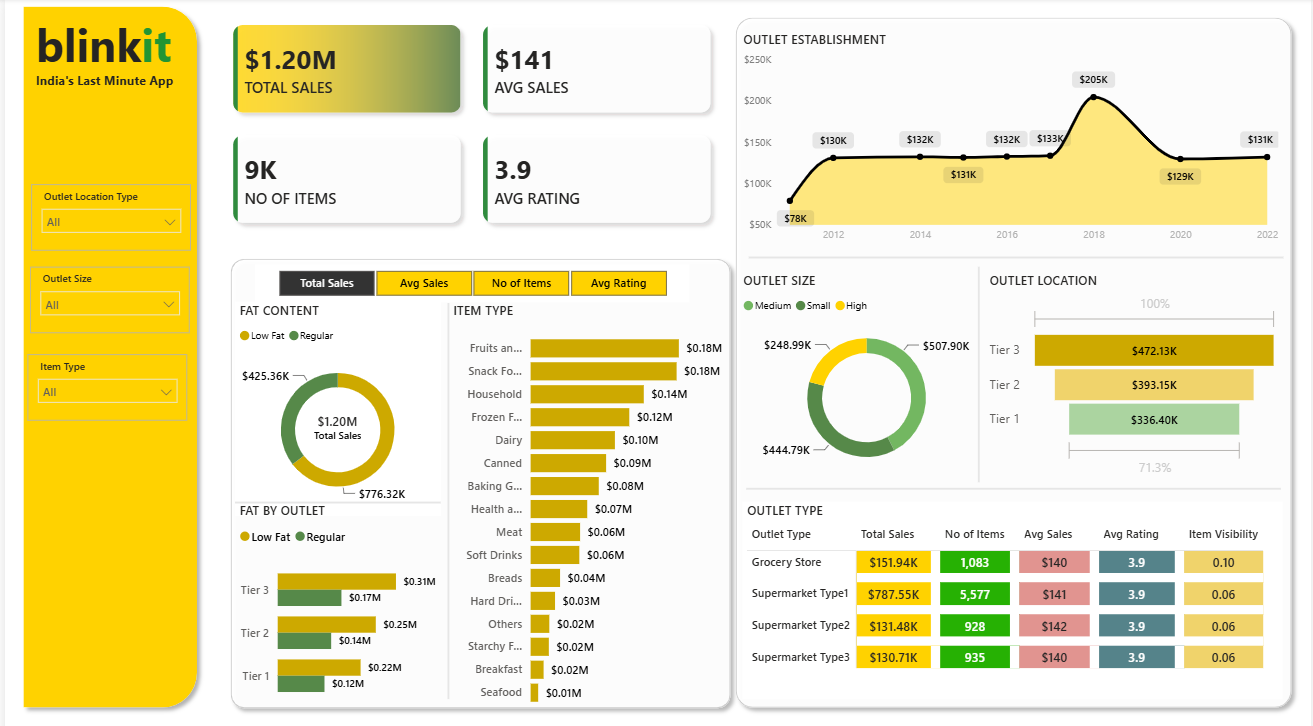

What the dashboard file says about the page in this screenshot:
{"tool":"powerbi","page":{"name":"Page 1","canvas":[1400,800],"ordinal":0},"visuals":[{"type":"shape","box":[10.5,0,204.1,769.9],"z":0},{"type":"textbox","box":[28.5,12,163.6,75],"z":1000},{"type":"textbox","box":[28.5,73.5,171.1,30],"z":2000},{"type":"cardVisual","fields":{"Data":["BlinkIT Grocery Data.Total Sales","BlinkIT Grocery Data.Avg Sales","BlinkIT Grocery Data.No of Items","BlinkIT Grocery Data.Avg Rating"]},"box":[216.1,0,570.3,270.2],"z":3000},{"type":"shape","box":[232.6,270.2,553.8,499.8],"z":4000},{"type":"donutChart","title":"FAT CONTENT","fields":{"Y":["BlinkIT Grocery Data.Total Sales"],"Category":["BlinkIT Grocery Data.Item Fat Content"]},"box":[246.1,325.7,220.6,229.6],"z":5000},{"type":"slicer","fields":{"Values":["Metrics.Metrics"]},"box":[268.7,285.2,465.3,40.5],"z":6000},{"type":"cardVisual","fields":{"Data":["BlinkIT Grocery Data.Total Sales"]},"box":[292.7,418.7,129.1,84],"z":7000},{"type":"clusteredBarChart","title":"FAT BY OUTLET","fields":{"Y":["BlinkIT Grocery Data.Total Sales"],"Category":["BlinkIT Grocery Data.Outlet Location Type"],"Series":["BlinkIT Grocery Data.Item Fat Content"]},"box":[246.1,540.3,220.6,229.6],"z":8000},{"type":"shape","box":[246.1,526.8,220.6,28.5],"z":9000},{"type":"shape","box":[466.8,327.2,18,424.7],"z":10000},{"type":"barChart","title":"ITEM TYPE","fields":{"Y":["BlinkIT Grocery Data.Total Sales"],"Category":["BlinkIT Grocery Data.Item Type"]},"box":[475.8,325.7,298.7,444.3],"z":11000},{"type":"shape","box":[774.4,12,613.9,757.9],"z":12000},{"type":"lineChart","title":"OUTLET ESTABLISHMENT","fields":{"Y":["BlinkIT Grocery Data.Total Sales"],"Category":["BlinkIT Grocery Data.Outlet Establishment Year"]},"box":[786.5,34.5,583.8,235.6],"z":13000},{"type":"shape","box":[797,270.2,573.3,15],"z":14000},{"type":"donutChart","title":"OUTLET SIZE","fields":{"Category":["BlinkIT Grocery Data.Outlet Size"],"Y":["BlinkIT Grocery Data.Total Sales"]},"box":[786.5,294.2,274.7,225.1],"z":15000},{"type":"shape","box":[1037.1,288.2,13.5,231.1],"z":16000},{"type":"funnel","title":"OUTLET LOCATION","fields":{"Y":["BlinkIT Grocery Data.Total Sales"],"Category":["BlinkIT Grocery Data.Outlet Location Type"]},"box":[1050.6,294.2,319.7,225.1],"z":17000},{"type":"shape","box":[795.5,519.3,573.3,15],"z":18000},{"type":"pivotTable","title":"OUTLET TYPE","fields":{"Rows":["BlinkIT Grocery Data.Outlet Type"],"Values":["BlinkIT Grocery Data.Total Sales","BlinkIT Grocery Data.No of Items","BlinkIT Grocery Data.Avg Sales","BlinkIT Grocery Data.Avg Rating","Avg(BlinkIT Grocery Data.Item Visibility)"]},"box":[791,540.3,579.3,211.6],"z":19000},{"type":"slicer","fields":{"Values":["BlinkIT Grocery Data.Outlet Location Type"]},"box":[28.2,199.7,171.6,71],"z":19001},{"type":"slicer","fields":{"Values":["BlinkIT Grocery Data.Outlet Size"]},"box":[26.8,288.2,171.6,71],"z":19002},{"type":"slicer","fields":{"Values":["BlinkIT Grocery Data.Item Type"]},"box":[24.1,382,171.6,71],"z":19003},{"type":"actionButton","box":[0,0,100,40],"z":19004}]}

Visuals, with their boxes on the page's 1400x800 design canvas (x1, y1, x2, y2). These are canvas units, not pixel positions in the 1313x726 screenshot, which may show the page scaled, cropped or inside an application window:
shape: <bbox>10, 0, 215, 770</bbox>
textbox: <bbox>28, 12, 192, 87</bbox>
textbox: <bbox>28, 74, 200, 104</bbox>
cardVisual - BlinkIT Grocery Data.Total Sales x BlinkIT Grocery Data.Avg Sales: <bbox>216, 0, 786, 270</bbox>
shape: <bbox>233, 270, 786, 770</bbox>
"FAT CONTENT" donutChart: <bbox>246, 326, 467, 555</bbox>
slicer - Metrics.Metrics: <bbox>269, 285, 734, 326</bbox>
cardVisual - BlinkIT Grocery Data.Total Sales: <bbox>293, 419, 422, 503</bbox>
"FAT BY OUTLET" clusteredBarChart: <bbox>246, 540, 467, 770</bbox>
shape: <bbox>246, 527, 467, 555</bbox>
shape: <bbox>467, 327, 485, 752</bbox>
"ITEM TYPE" barChart: <bbox>476, 326, 774, 770</bbox>
shape: <bbox>774, 12, 1388, 770</bbox>
"OUTLET ESTABLISHMENT" lineChart: <bbox>786, 34, 1370, 270</bbox>
shape: <bbox>797, 270, 1370, 285</bbox>
"OUTLET SIZE" donutChart: <bbox>786, 294, 1061, 519</bbox>
shape: <bbox>1037, 288, 1051, 519</bbox>
"OUTLET LOCATION" funnel: <bbox>1051, 294, 1370, 519</bbox>
shape: <bbox>796, 519, 1369, 534</bbox>
"OUTLET TYPE" pivotTable: <bbox>791, 540, 1370, 752</bbox>
slicer - BlinkIT Grocery Data.Outlet Location Type: <bbox>28, 200, 200, 271</bbox>
slicer - BlinkIT Grocery Data.Outlet Size: <bbox>27, 288, 198, 359</bbox>
slicer - BlinkIT Grocery Data.Item Type: <bbox>24, 382, 196, 453</bbox>
actionButton: <bbox>0, 0, 100, 40</bbox>
